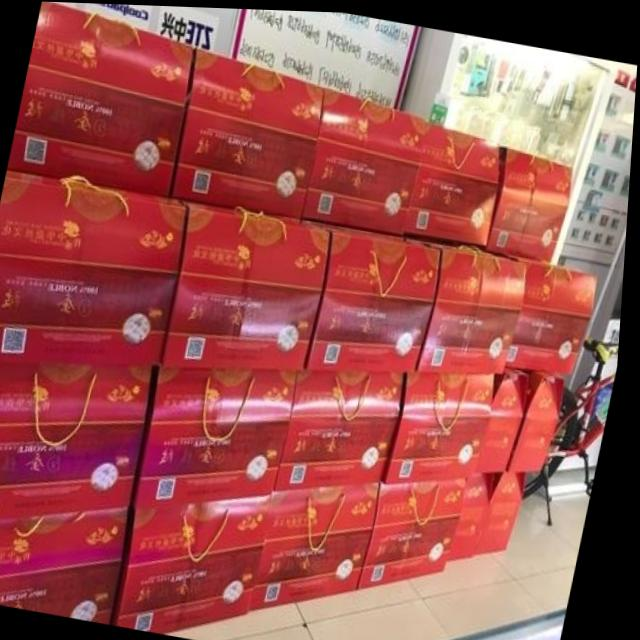box: (0, 170, 189, 365), (9, 1, 195, 195), (165, 198, 333, 369), (173, 46, 325, 217), (0, 359, 157, 518), (138, 366, 303, 505), (120, 495, 279, 633), (310, 222, 443, 369), (303, 85, 425, 233), (258, 484, 386, 609), (281, 369, 409, 492), (0, 509, 136, 624), (422, 236, 530, 370), (391, 371, 499, 481), (408, 116, 502, 242), (364, 479, 472, 587), (511, 252, 599, 370), (490, 141, 573, 258), (514, 366, 569, 469), (481, 364, 534, 470), (482, 468, 531, 552), (456, 469, 502, 558)
